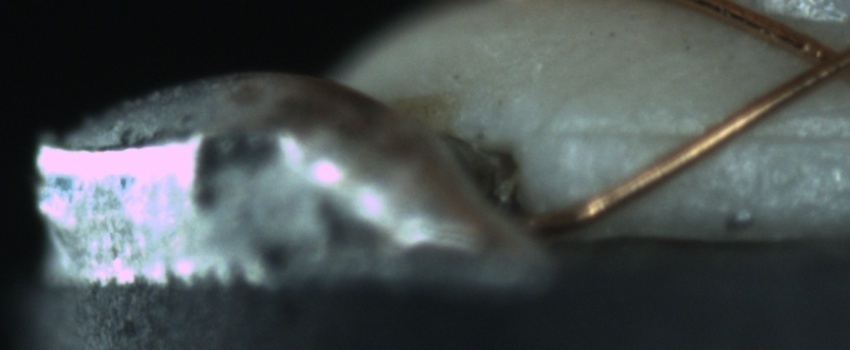CL: (781, 22, 849, 95)
DL: (556, 104, 849, 167)
